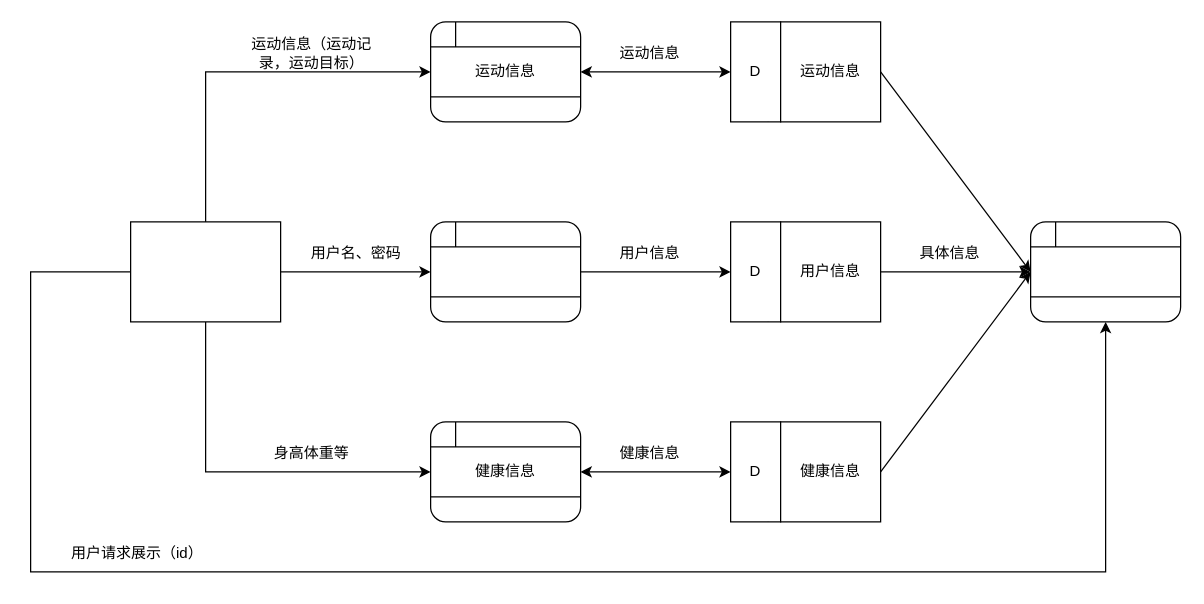
Image size: 1204x604. Some labels were removed from this diagram. The shapes that lost their labels are listed below. From the top down, each one's box as (x1, y1, x2, y2) in pixels, then its label:
(129, 221, 281, 322): 用户
(429, 221, 581, 322): 注册
(1029, 221, 1181, 322): 网页展示
